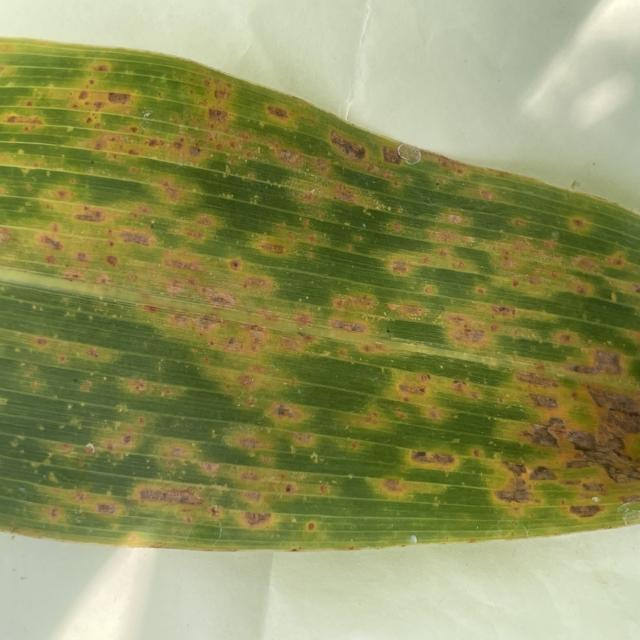millet_rust: (0, 38, 640, 551)
